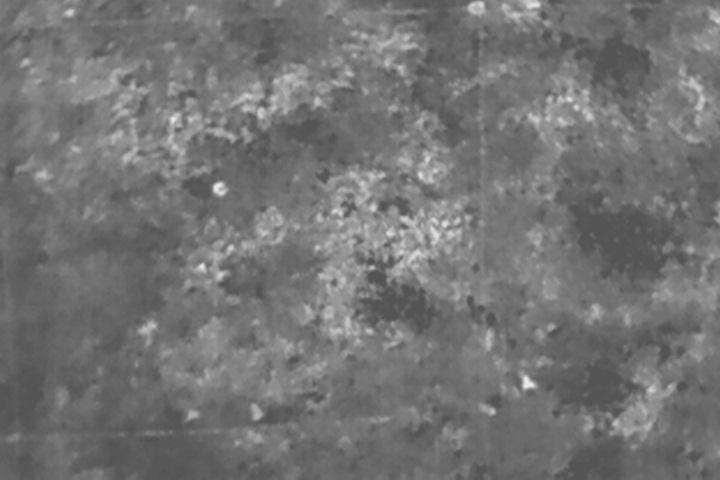landmine: (213, 182, 231, 196)
